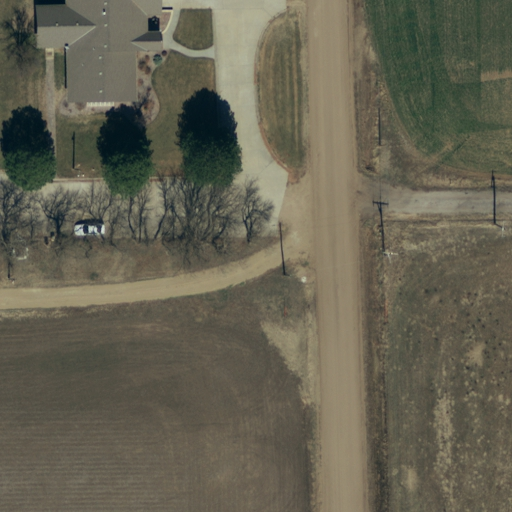DT: (486, 215, 508, 241), (376, 244, 402, 265), (275, 265, 298, 285)
